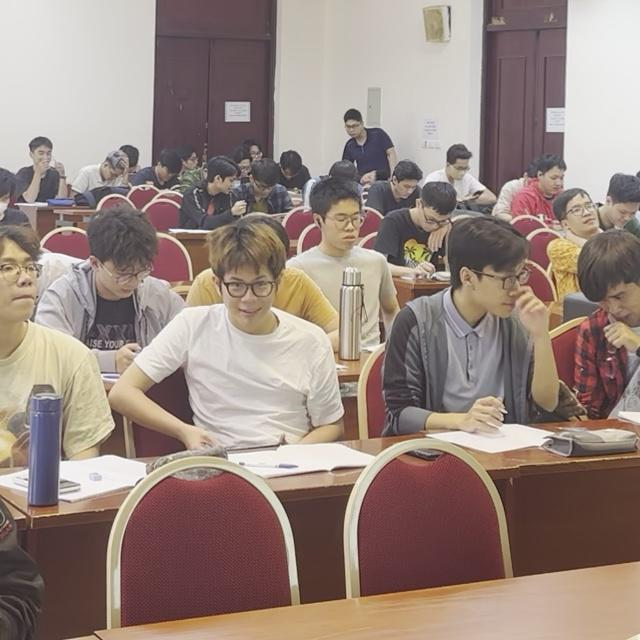Looking away: (97, 247, 149, 297), (318, 193, 361, 251), (600, 270, 640, 325), (416, 203, 451, 233), (607, 196, 638, 226), (210, 166, 235, 196), (542, 168, 564, 193), (157, 158, 177, 183), (395, 176, 416, 199), (102, 160, 123, 182), (253, 178, 276, 198), (34, 145, 52, 168), (344, 119, 361, 139)
Looking forward: (0, 237, 42, 322), (222, 262, 276, 328), (471, 253, 523, 318), (563, 190, 596, 235)
Phone use: (425, 146, 497, 203)
